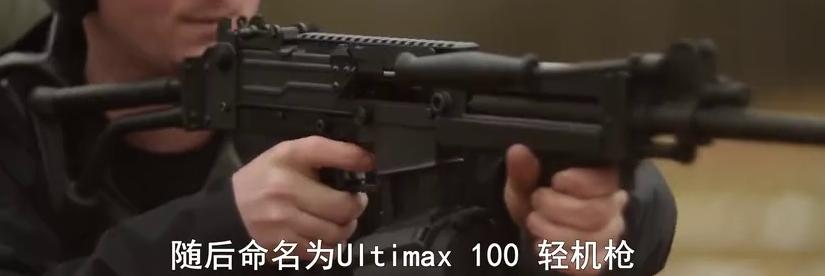gun: (1, 1, 825, 276)
